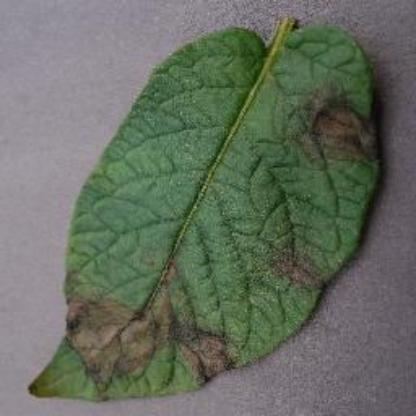Late-Blight: (12, 6, 398, 408)
